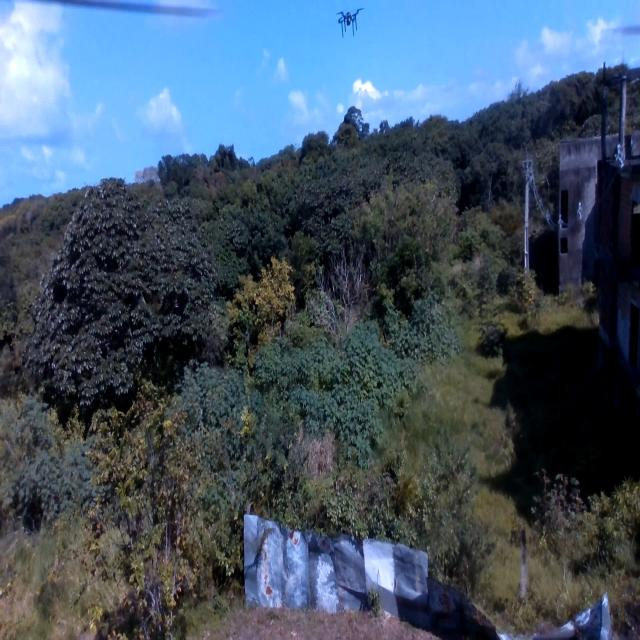-uav-: (332, 3, 366, 43)
